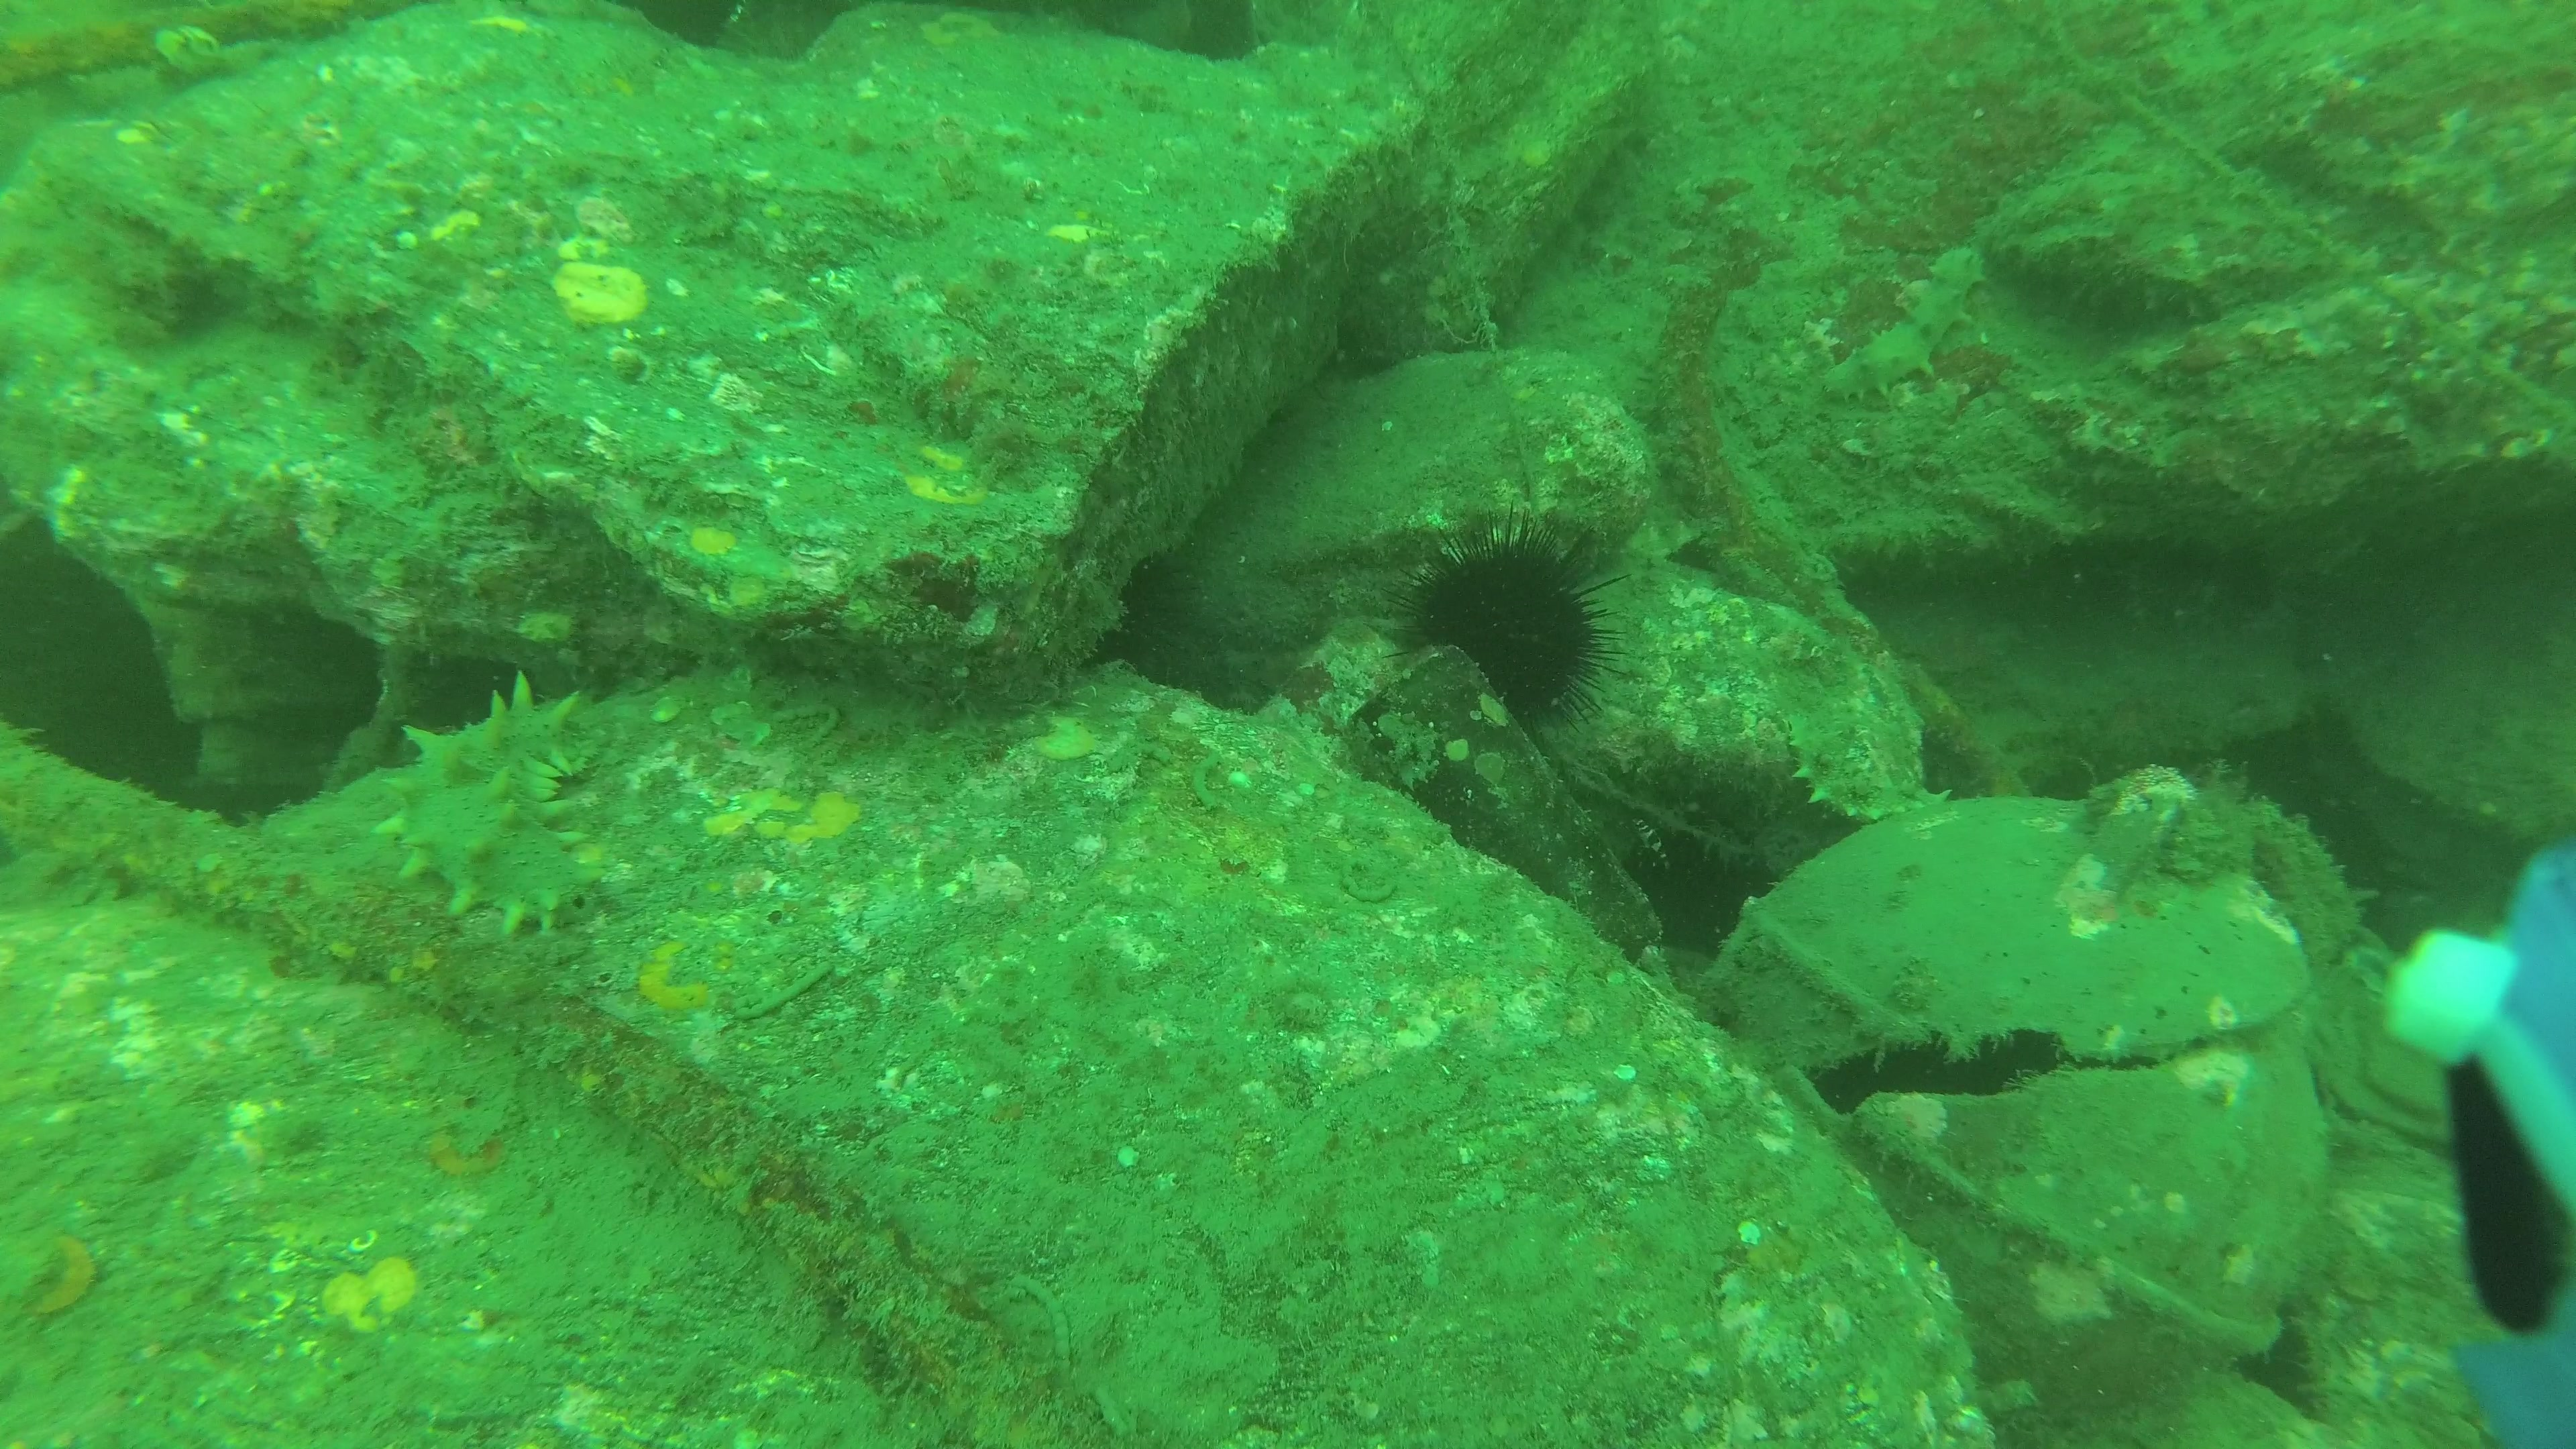echinus: (1385, 506, 1637, 732)
holothurian: (380, 672, 607, 945), (1805, 232, 1990, 416)
